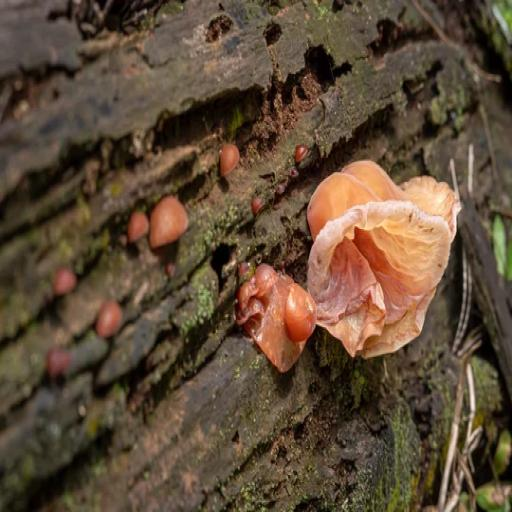Wood Ear Mushroom: (303, 152, 462, 354), (237, 264, 319, 375)
